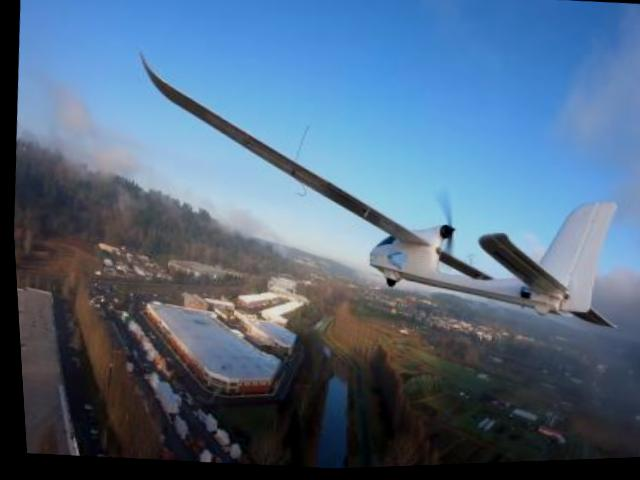uav: (108, 25, 640, 361)
